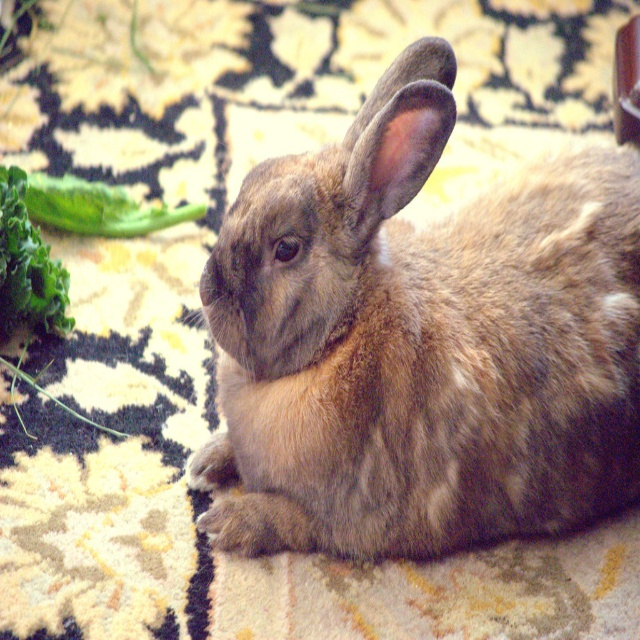Rabbit: (175, 32, 640, 562)
